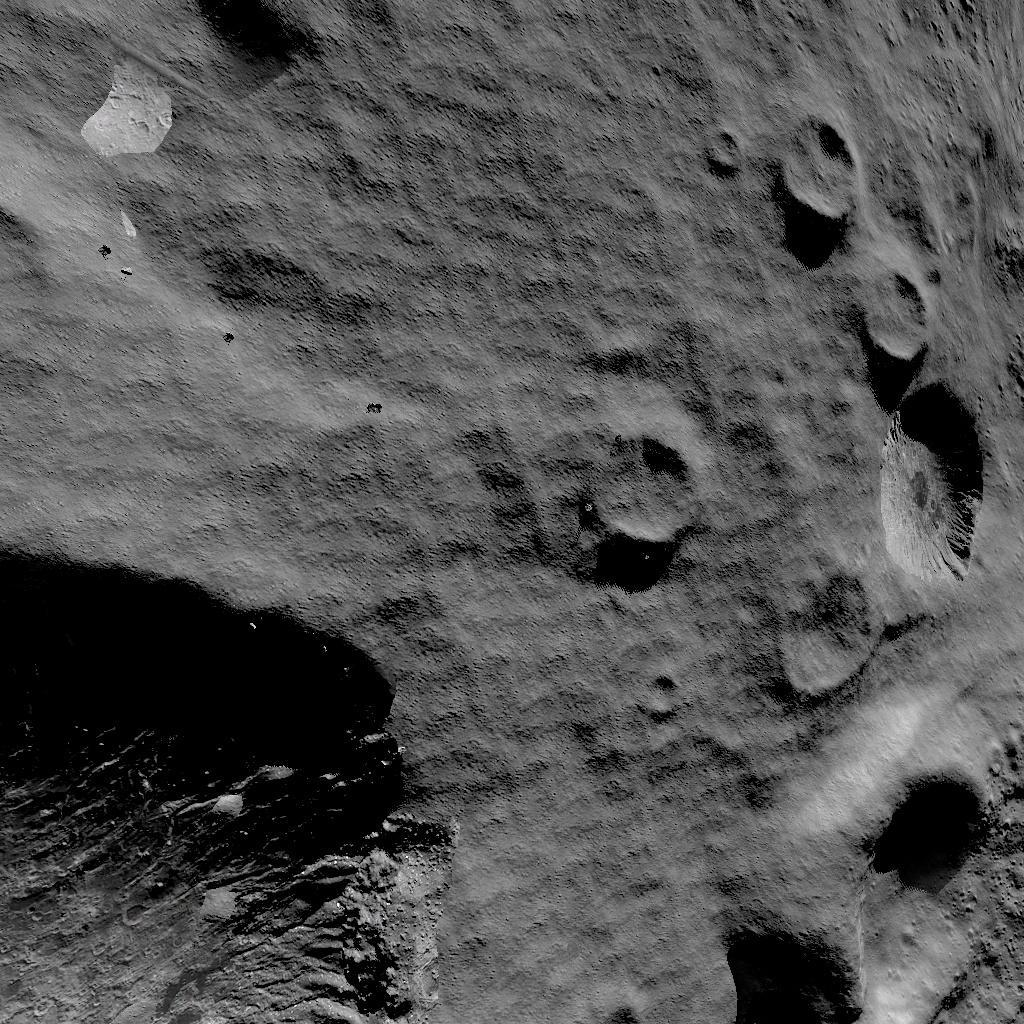Boulders: (58, 46, 168, 148)
Crater: (0, 532, 431, 1024), (721, 712, 981, 1024), (767, 379, 975, 684), (559, 416, 692, 556), (770, 110, 862, 230), (832, 268, 924, 364)
Plan surface: (0, 156, 541, 516)
